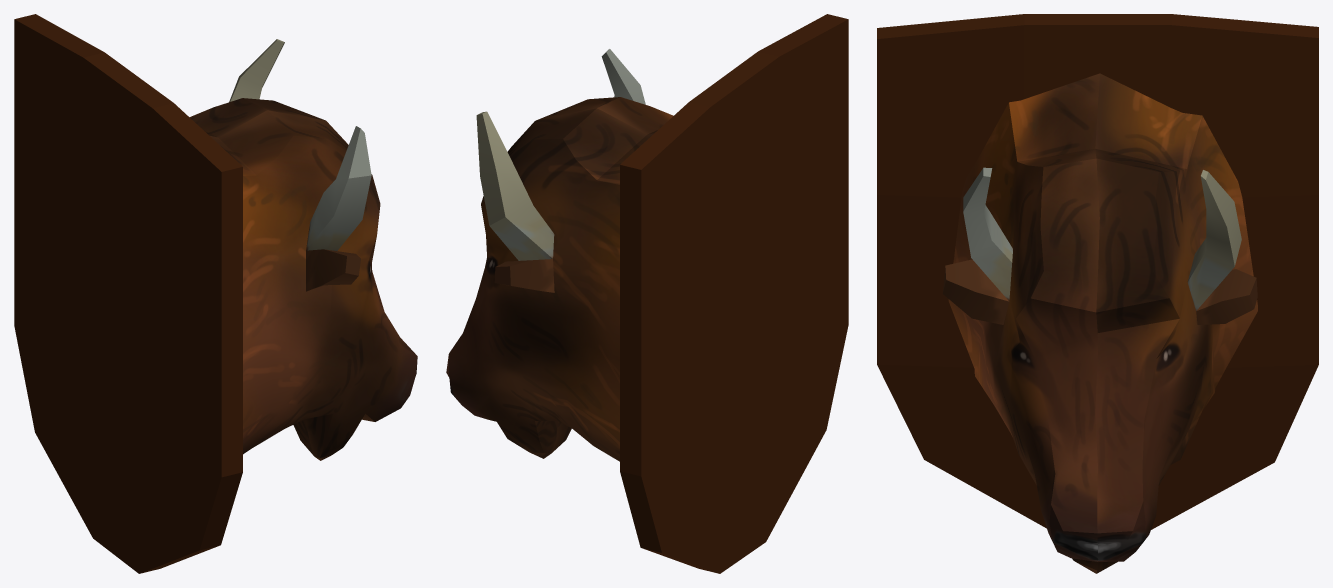
File: Bison.fbx
3 views of the same model, side by side, from view 1: azimuth 30°, elevation 25°; view 2: azimuth 150°, elevation 25°; view 3: azimuth 270°, elevation 25° (orthographic). The views are drawn at different scales.
Parts seen in each view (by area): view 1: Plane; view 2: Plane; view 3: Plane.
Part boxes in pixels (x1,y1,x2,y2): Plane: (14, 14, 417, 573); Plane: (446, 14, 848, 573); Plane: (877, 14, 1318, 573).
Size of the model in its own units: 156 by 247 by 195.
